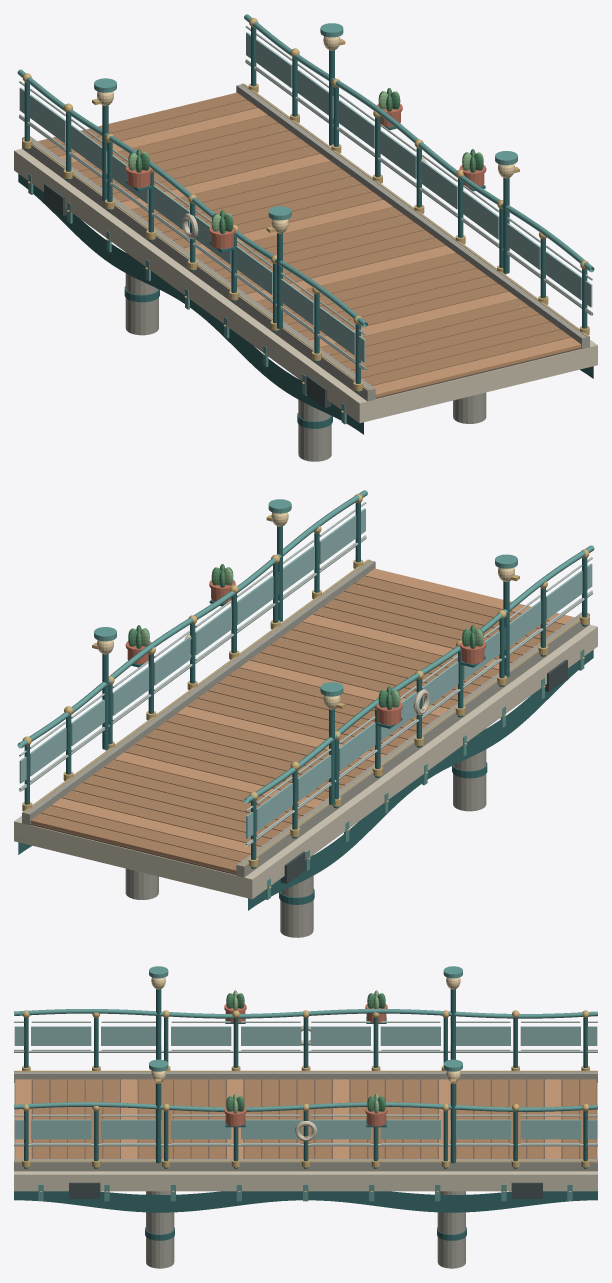
File: baywalk_bridge_span.glb
The picture shows the model from 3 angles, top to bottom: view 1: azimuth 30°, elevation 25°; view 2: azimuth 150°, elevation 25°; view 3: azimuth 270°, elevation 25°; orthographic projection. The views are drawn at different scales.
Visible parts, largest first — view 1: bridge_rounded_concrete_slab, continuous_edge_guard_-2.15, continuous_edge_guard_2.15, wave_girder_port, crossgrain_board_00, continuous_wave_top_rail_right, continuous_wave_top_rail_left, crossgrain_board_01, crossgrain_board_02, crossgrain_board_03, crossgrain_board_04, crossgrain_board_05 (+48 smaller); view 2: bridge_rounded_concrete_slab, continuous_edge_guard_-2.15, continuous_edge_guard_2.15, wave_girder_port, crossgrain_board_32, continuous_wave_top_rail_right, continuous_wave_top_rail_left, crossgrain_board_31, crossgrain_board_30, crossgrain_board_29, crossgrain_board_28, crossgrain_board_27 (+48 smaller); view 3: bridge_rounded_concrete_slab, wave_girder_starboard, continuous_edge_guard_2.15, continuous_edge_guard_-2.15, inset_deck_dark_reveal, continuous_wave_top_rail_left, continuous_wave_top_rail_right, continuous_lower_rail_right, tapered_bridge_pier_1.55_3.0, tapered_bridge_pier_1.55_-3.0, glazed_panel_right_0, glazed_panel_right_7 (+54 smaller).
Part boxes in pixels (box(x1,y1,x2,y2)): bridge_rounded_concrete_slab: box(14, 148, 597, 423); continuous_edge_guard_-2.15: box(22, 136, 375, 401); continuous_edge_guard_2.15: box(236, 83, 589, 348); wave_girder_port: box(18, 174, 363, 434); crossgrain_board_00: box(372, 337, 581, 397); continuous_wave_top_rail_right: box(244, 14, 594, 272); continuous_wave_top_rail_left: box(17, 69, 367, 327); crossgrain_board_01: box(361, 330, 570, 385); crossgrain_board_02: box(351, 322, 560, 378); crossgrain_board_03: box(341, 314, 549, 370); crossgrain_board_04: box(330, 307, 539, 362); crossgrain_board_05: box(320, 299, 528, 355); bridge_rounded_concrete_slab: box(14, 624, 597, 899); continuous_edge_guard_-2.15: box(236, 612, 589, 877); continuous_edge_guard_2.15: box(22, 559, 375, 825); wave_girder_port: box(248, 650, 593, 910); crossgrain_board_32: box(30, 813, 239, 873); continuous_wave_top_rail_right: box(17, 490, 367, 748); continuous_wave_top_rail_left: box(244, 545, 594, 803); crossgrain_board_31: box(41, 806, 250, 861); crossgrain_board_30: box(51, 798, 260, 854); crossgrain_board_29: box(62, 790, 271, 846); crossgrain_board_28: box(72, 782, 281, 838); crossgrain_board_27: box(83, 775, 291, 831); bridge_rounded_concrete_slab: box(14, 1083, 597, 1191); wave_girder_starboard: box(14, 1191, 597, 1212); continuous_edge_guard_2.15: box(14, 1159, 597, 1171); continuous_edge_guard_-2.15: box(14, 1071, 597, 1082); inset_deck_dark_reveal: box(15, 1082, 596, 1158); continuous_wave_top_rail_left: box(14, 1009, 597, 1018); continuous_wave_top_rail_right: box(14, 1102, 597, 1111); continuous_lower_rail_right: box(14, 1144, 597, 1146); tapered_bridge_pier_1.55_3.0: box(437, 1191, 465, 1268); tapered_bridge_pier_1.55_-3.0: box(146, 1191, 174, 1268); glazed_panel_right_0: box(31, 1119, 91, 1139); glazed_panel_right_7: box(520, 1119, 580, 1139).
Bounding box in the file's own units: 5.47 × 4.85 × 12.01.
